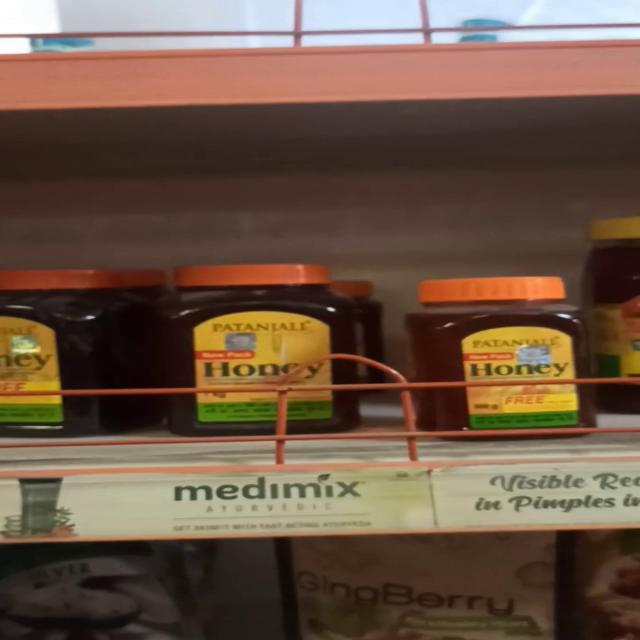Patanjali Honey: (162, 260, 358, 438), (414, 274, 604, 443)
